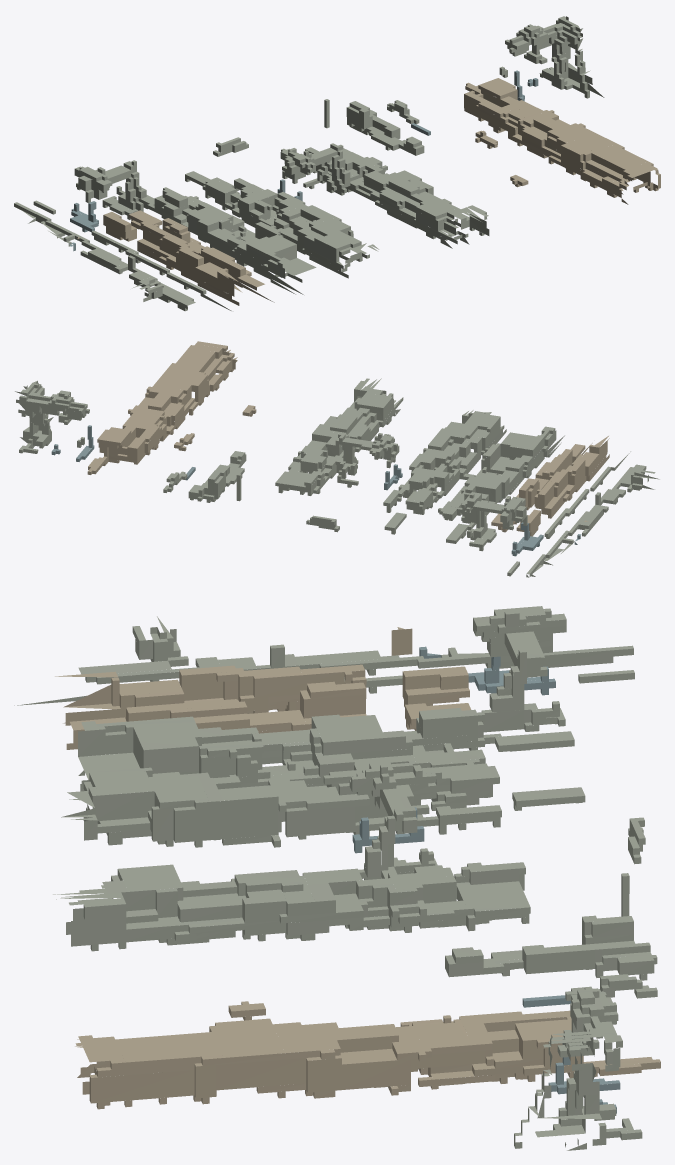
The picture shows the model from 3 angles, top to bottom: view 1: azimuth 30°, elevation 25°; view 2: azimuth 150°, elevation 25°; view 3: azimuth 270°, elevation 25°; orthographic projection. The views are drawn at different scales.
Visible parts, largest first — view 1: measured-industrial; view 2: measured-industrial; view 3: measured-industrial.
Boxes of the visible parts, x1,y1,x2,y2 form: measured-industrial: (14,16,660,311); measured-industrial: (15,341,659,577); measured-industrial: (14,606,660,1150).
Size of the model in its own units: 260 by 29.67 by 138.
